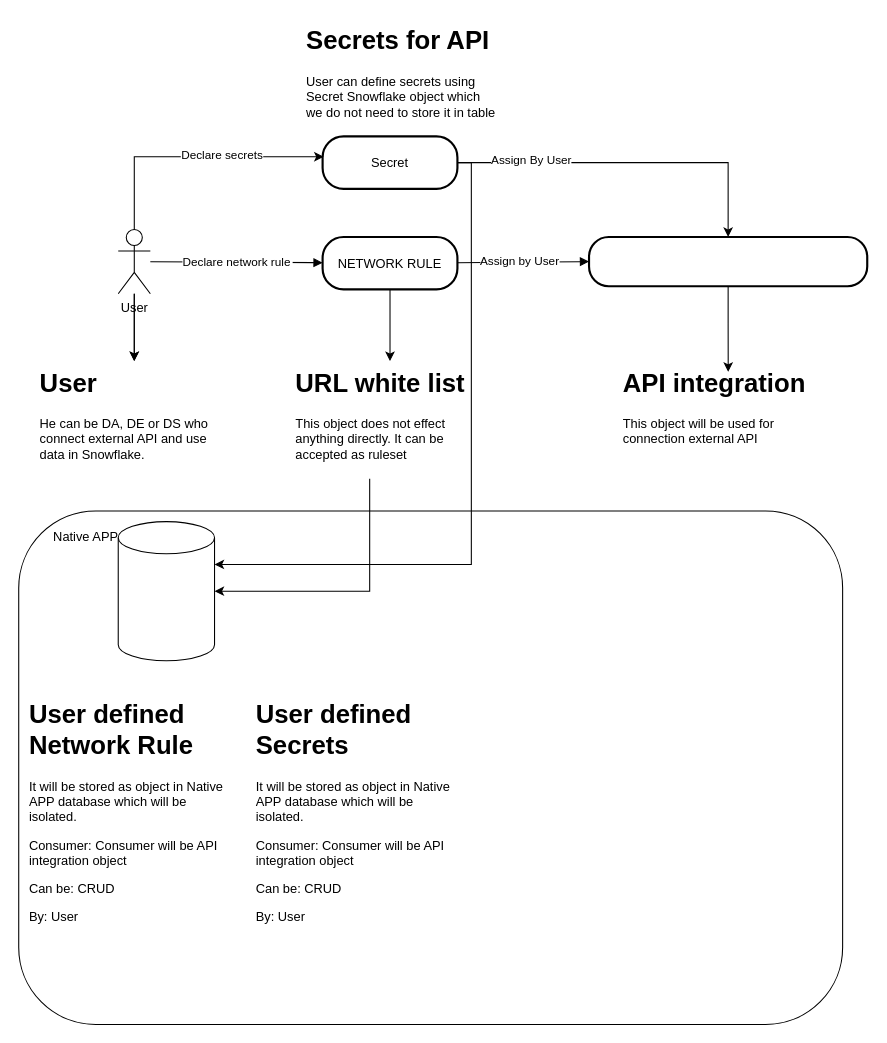
The diagram is 887 pixels wide and 1043 high, and some of its shapes have lost their labels. The centre of each missing label's shape, as x and y in pixels:
APP database: pixel 166 591
EXTERNAL ACCESS INTEGRATION: pixel 727 261
